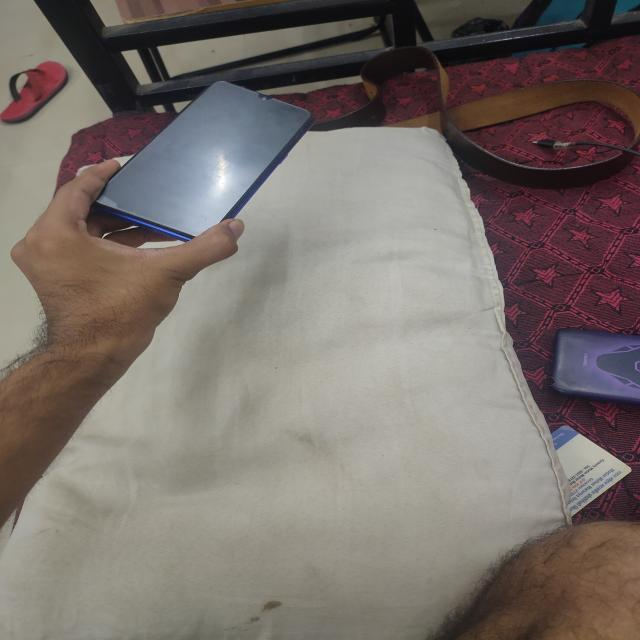Phone: (90, 78, 316, 245)
